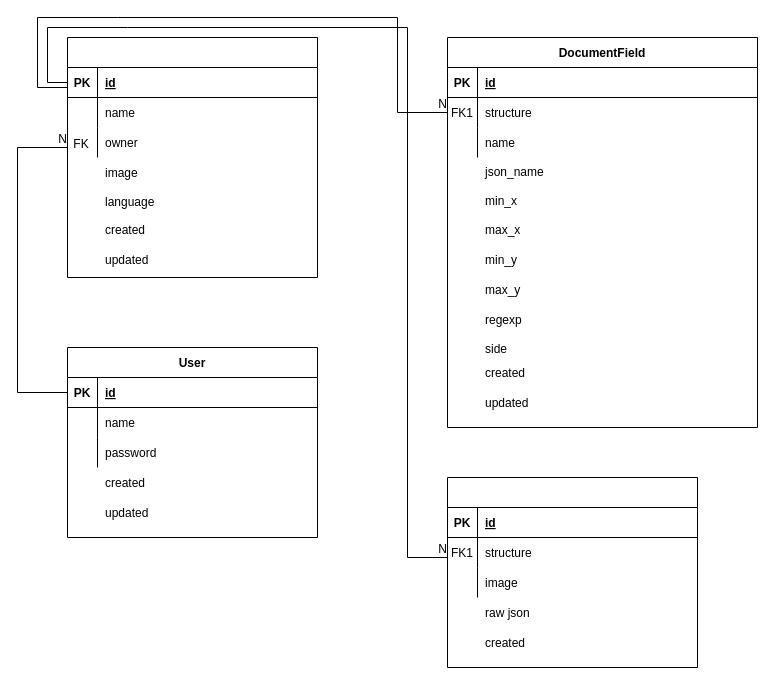
This 775x685 diagram has some shape labels left out. Each missing label, with the box of its shape:
DocumentStructure: (66, 36, 318, 278)
History: (446, 476, 698, 668)
